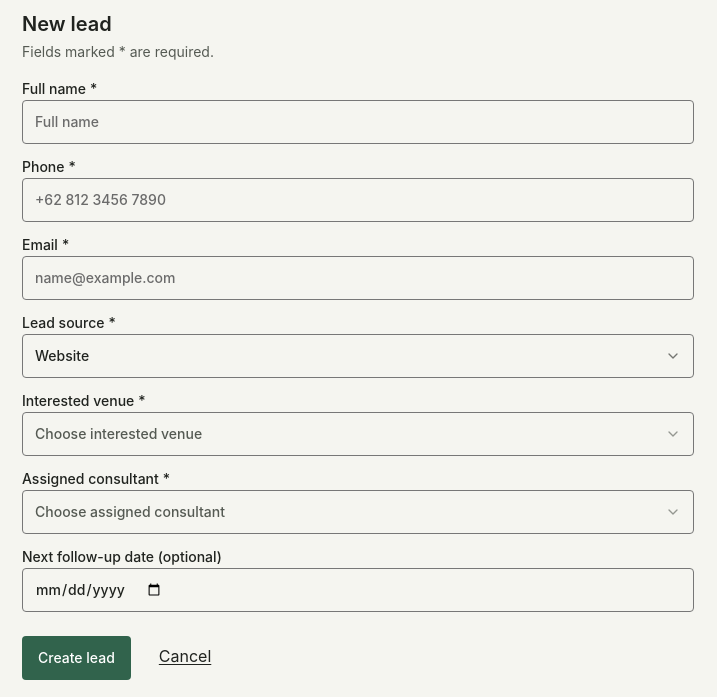
Scenario: lead forms › focuses the first invalid field when submitting an empty form
(page scrolled)
Expected: the dropdown labelled "interested venue" is shown, [22, 412, 694, 456]
Expected: the dropdown labelled "assigned consultant" is shown, [22, 490, 694, 534]
Click the button "Create lead".
click(76, 658)  # box [22, 636, 131, 680]
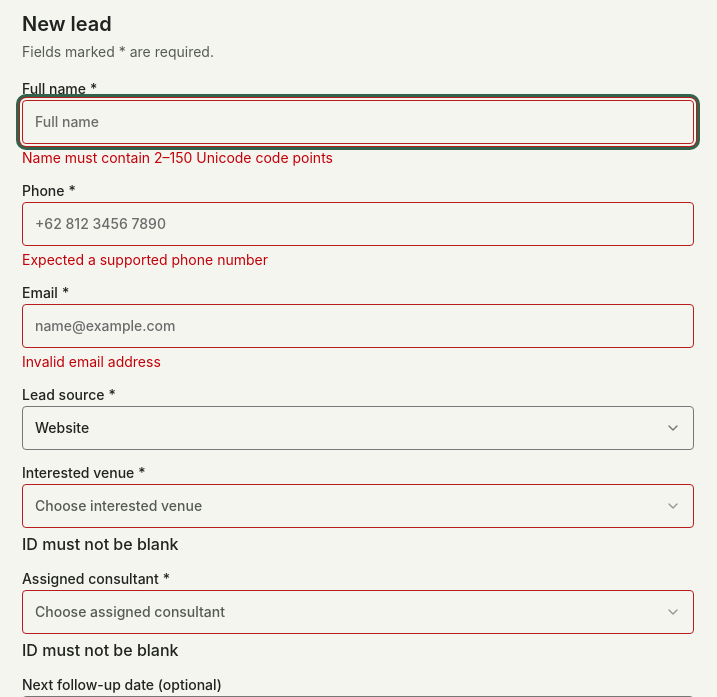
Now the text "Name must contain 2–150 Unicode code points" is shown, box [22, 149, 333, 166]
